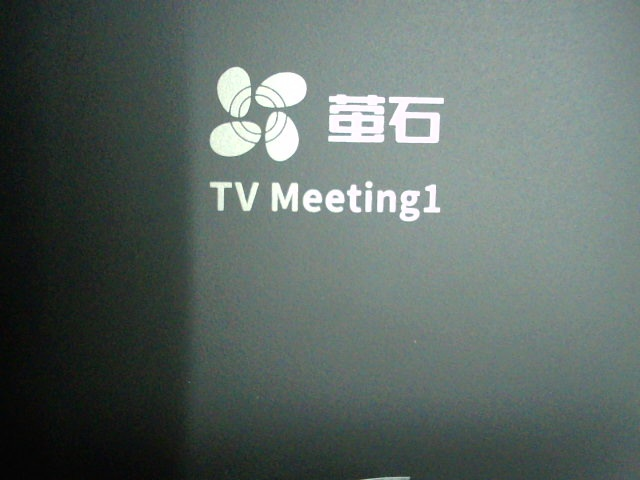BA_Yingshi: (202, 63, 454, 225)
